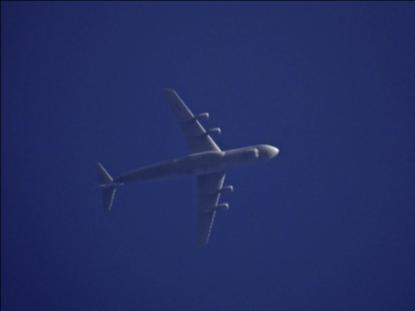C17: (92, 87, 278, 249)
